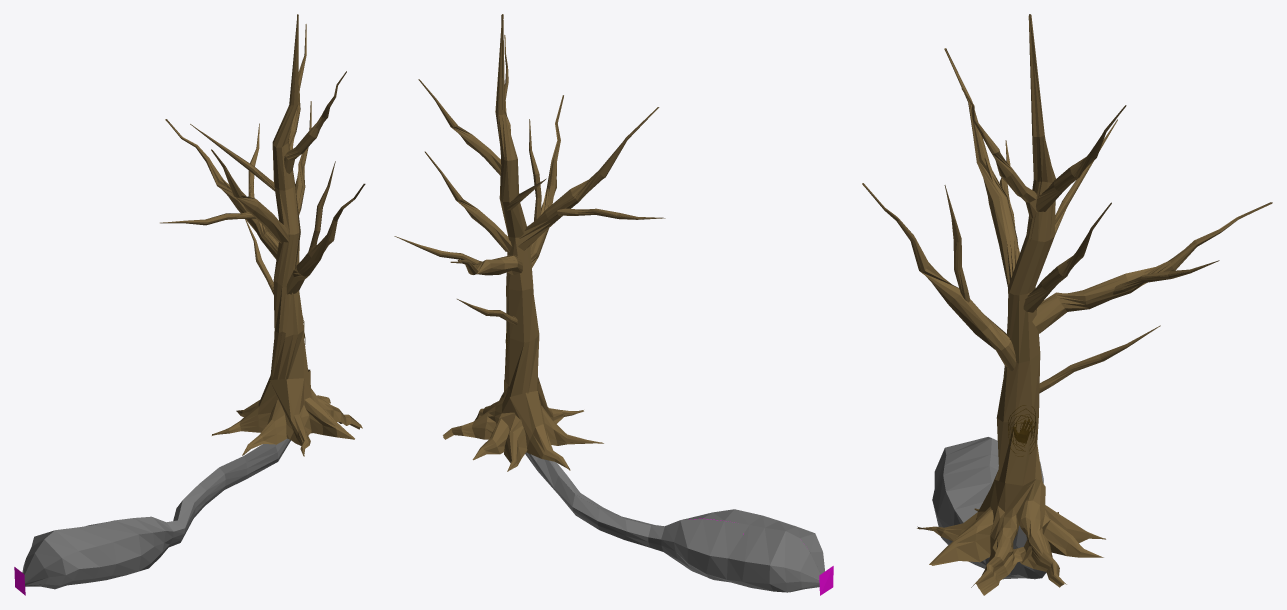
File: roots_tree_underground.fbx
The picture shows the model from 3 angles, left to right: view 1: azimuth 30°, elevation 25°; view 2: azimuth 150°, elevation 25°; view 3: azimuth 270°, elevation 25°; orthographic projection. The views are drawn at different scales.
Parts seen in each view (by area): view 1: n.0054, n.0017, n.0016, n.0021, n.0020, n.0019, n.0014, n.0011, n.0009, n.0024, n.0012, n.0022 (+3 smaller); view 2: n.0054, n.0017, n.0020, n.0014, n.0005, n.0021, n.0022, n.0019, n.0023, n.0015, n.0006, n.0009 (+1 smaller); view 3: n.0017, n.0054, n.0012, n.0019, n.0021, n.0020, n.0005, n.0011, n.0024, n.0022, n.0023, n.0006 (+6 smaller).
Boxes of the visible parts, x1,y1,x2,y2 form: n.0054: [22, 438, 290, 589]; n.0017: [270, 14, 308, 379]; n.0016: [269, 378, 311, 456]; n.0021: [286, 183, 365, 294]; n.0020: [211, 149, 289, 243]; n.0019: [165, 119, 278, 259]; n.0014: [212, 375, 277, 435]; n.0011: [304, 397, 354, 439]; n.0009: [242, 399, 286, 455]; n.0024: [284, 71, 346, 173]; n.0012: [303, 369, 362, 433]; n.0022: [295, 101, 311, 214]; n.0054: [525, 452, 824, 592]; n.0017: [495, 14, 539, 396]; n.0020: [516, 107, 659, 250]; n.0014: [510, 391, 570, 470]; n.0005: [443, 386, 515, 439]; n.0021: [530, 95, 563, 267]; n.0022: [424, 151, 512, 251]; n.0019: [450, 254, 522, 275]; n.0023: [418, 79, 501, 175]; n.0015: [504, 415, 527, 471]; n.0006: [472, 418, 509, 460]; n.0009: [541, 405, 603, 445]; n.0017: [996, 14, 1055, 486]; n.0054: [932, 437, 1046, 579]; n.0012: [971, 479, 1035, 595]; n.0019: [1032, 202, 1272, 333]; n.0021: [862, 183, 1016, 370]; n.0020: [944, 48, 1019, 287]; n.0005: [1017, 479, 1066, 587]; n.0011: [929, 507, 993, 565]; n.0024: [961, 88, 1037, 218]; n.0022: [1023, 202, 1111, 312]; n.0023: [1036, 105, 1126, 211]; n.0006: [1043, 519, 1103, 557].
Bounding box in the file's own units: 39.96 × 31.3 × 55.77.
